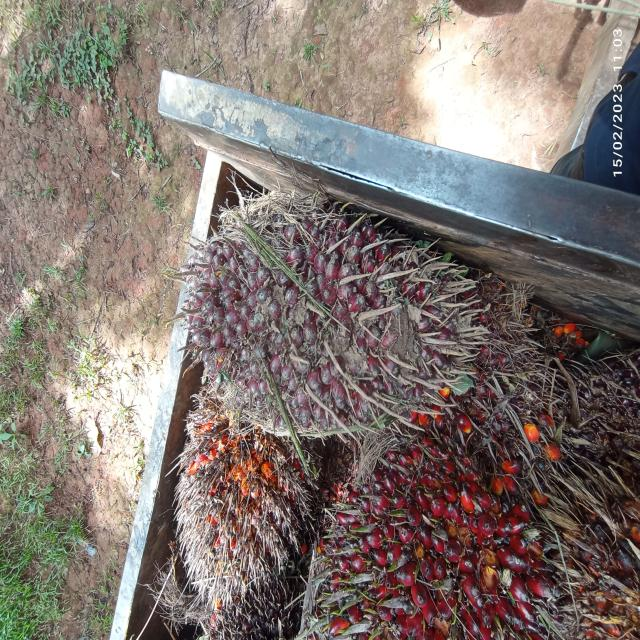fraksi 1: (148, 112, 508, 485), (277, 355, 578, 640)
fraksi 4: (168, 383, 314, 612)
